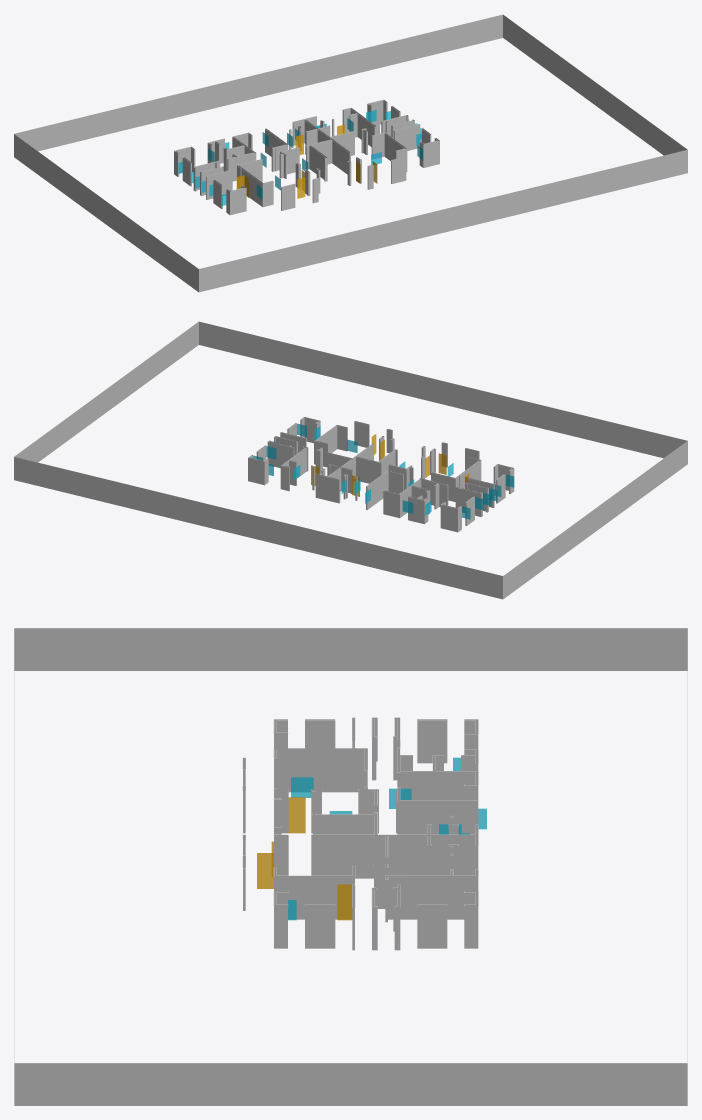
The model's file is b58335af-9968-4cce-93bf-c78e12837013_no_roof.glb.
3 views of the same model, one above another, from view 1: azimuth 30°, elevation 25°; view 2: azimuth 150°, elevation 25°; view 3: azimuth 270°, elevation 25° (orthographic). The views are drawn at different scales.
Parts seen in each view (by area): view 1: walls, windows, doors; view 2: walls, windows, doors; view 3: walls, doors, windows.
Part boxes in pixels (bbox=[...]): walls: bbox=[14, 14, 687, 292]; windows: bbox=[178, 110, 423, 205]; doors: bbox=[236, 124, 377, 198]; walls: bbox=[14, 321, 687, 599]; windows: bbox=[253, 423, 514, 519]; doors: bbox=[311, 434, 472, 496]; walls: bbox=[14, 628, 687, 1105]; doors: bbox=[257, 797, 353, 920]; windows: bbox=[288, 757, 486, 920].
Size of the model in its own units: 54.65 by 2.5 by 35.77.
